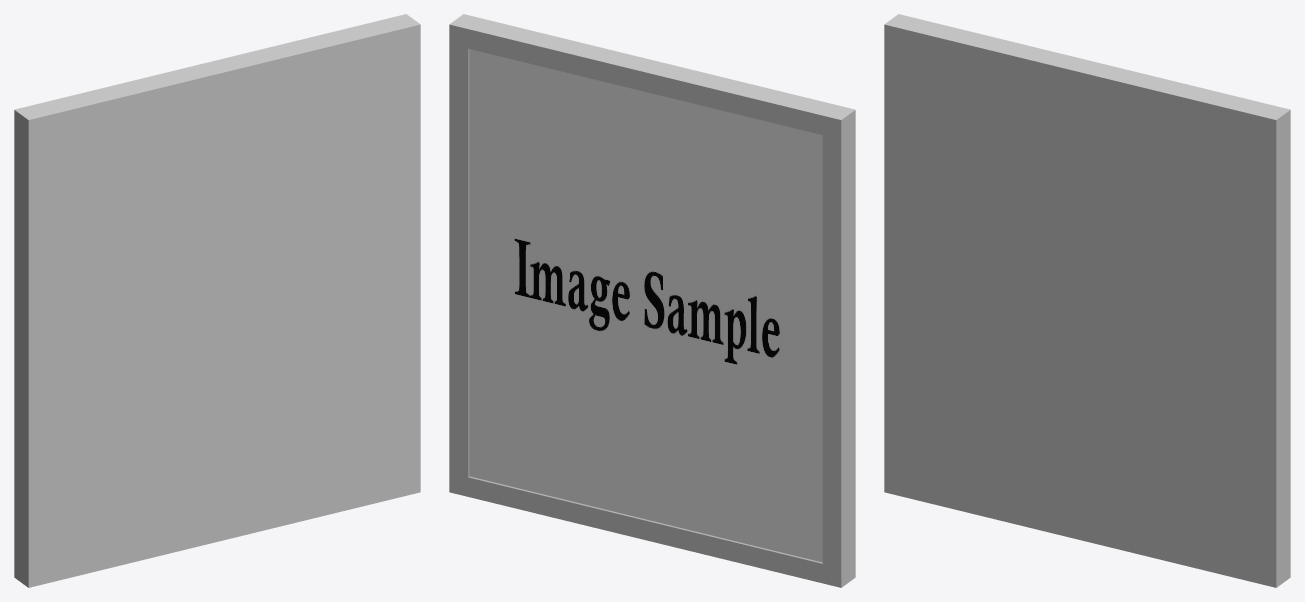
The model's file is frame_var5.fbx.
The picture shows the model from 3 angles, left to right: view 1: azimuth 30°, elevation 25°; view 2: azimuth 150°, elevation 25°; view 3: azimuth 330°, elevation 25°; orthographic projection.
Parts seen in each view (by area): view 1: Cube.059; view 2: Plane.007, Cube.059; view 3: Cube.059.
Part boxes in pixels (x1=…): Cube.059: x1=14, y1=14, x2=420, y2=587; Plane.007: x1=469, y1=49, x2=822, y2=562; Cube.059: x1=449, y1=14, x2=855, y2=587; Cube.059: x1=884, y1=14, x2=1290, y2=587.
Size of the model in its own units: 89.1 by 102 by 5.65.
